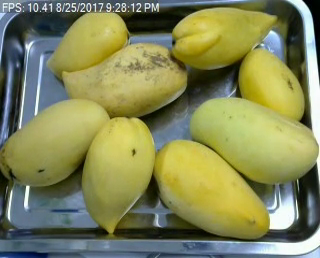Mango: (187, 97, 319, 183), (155, 141, 269, 240), (62, 42, 187, 118), (0, 101, 109, 187), (80, 116, 154, 234), (170, 8, 280, 70), (46, 10, 128, 84), (235, 49, 303, 120)
